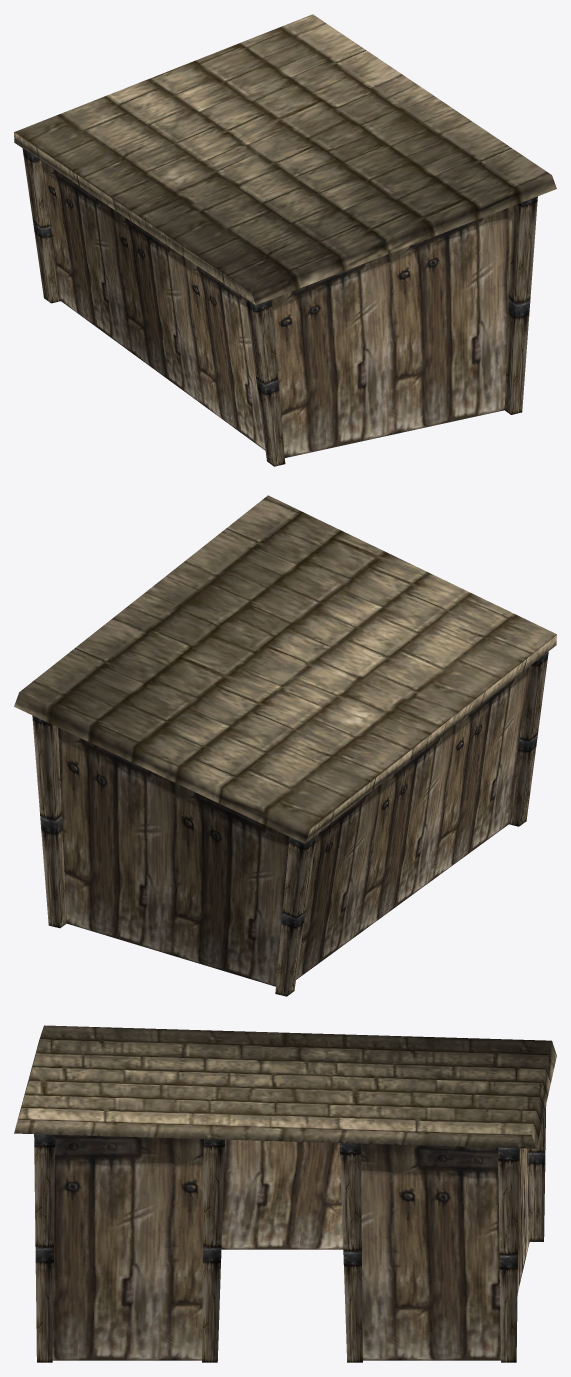
Rendered from shack.obj.
3 views of the same model, one above another, from view 1: azimuth 30°, elevation 25°; view 2: azimuth 150°, elevation 25°; view 3: azimuth 270°, elevation 25° (orthographic). The views are drawn at different scales.
Parts seen in each view (by area): view 1: SHACK1, SHACK2, SHACK0; view 2: SHACK1, SHACK2, SHACK0; view 3: SHACK2, SHACK1, SHACK0.
Boxes of the visible parts, x1=… form: SHACK1: x1=14, y1=14, x2=556, y2=305; SHACK2: x1=41, y1=161, x2=512, y2=457; SHACK0: x1=22, y1=148, x2=537, y2=466; SHACK1: x1=14, y1=495, x2=556, y2=843; SHACK2: x1=58, y1=667, x2=528, y2=986; SHACK0: x1=32, y1=652, x2=548, y2=996; SHACK2: x1=52, y1=1134, x2=529, y2=1360; SHACK1: x1=14, y1=1025, x2=556, y2=1148; SHACK0: x1=34, y1=1105, x2=546, y2=1362.
Bounding box in the file's own units: 5.21 × 4.06 × 7.84.
